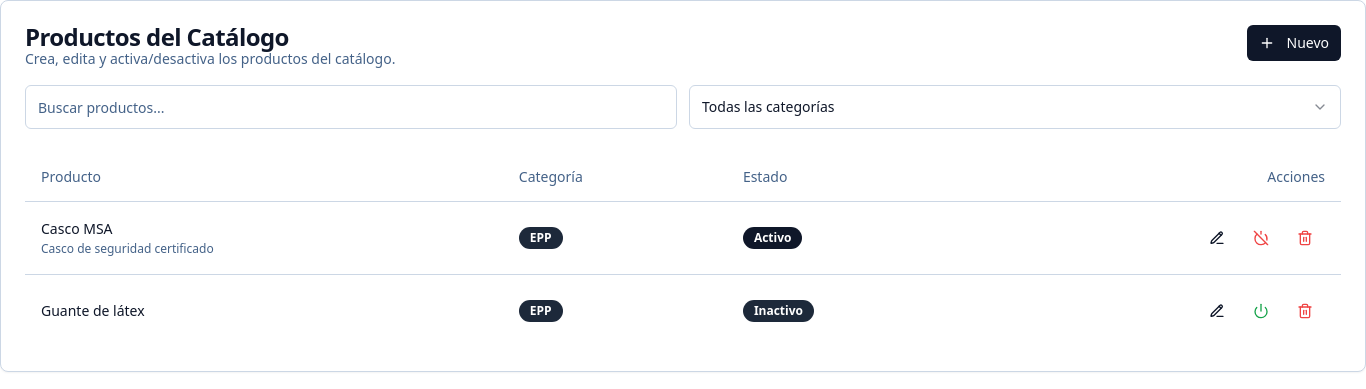
Test: ProductManager — persistence (HU-2.3) › filters products by search term (client-side)
Expected: the text "Casco MSA" is shown, 41,218 -> 113,238
Type "casco" into the field with placeholder "Buscar productos...". click: [351, 107]
box: 25,85 -> 677,129
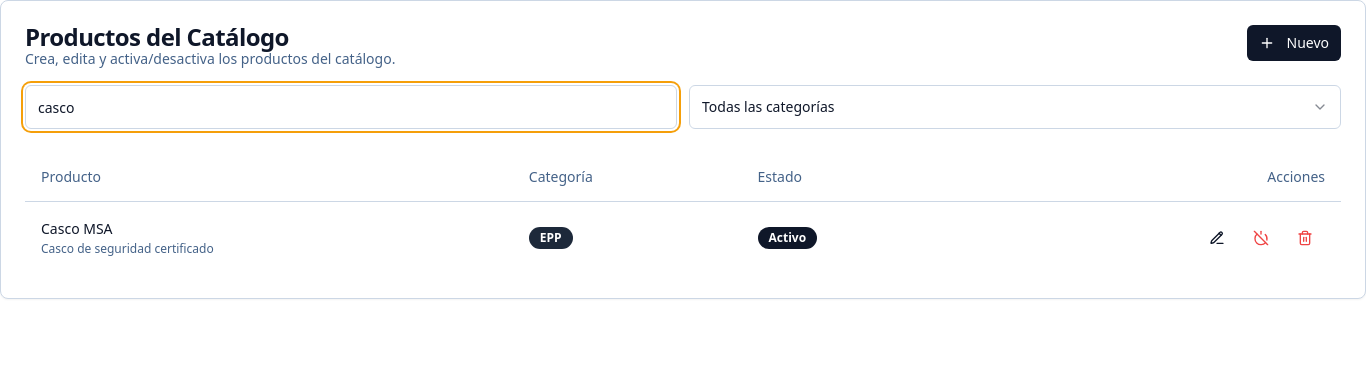
Expected: the text "Casco MSA" is shown, 41,218 -> 113,238
Expected: the text "Guante de látex" is gone
